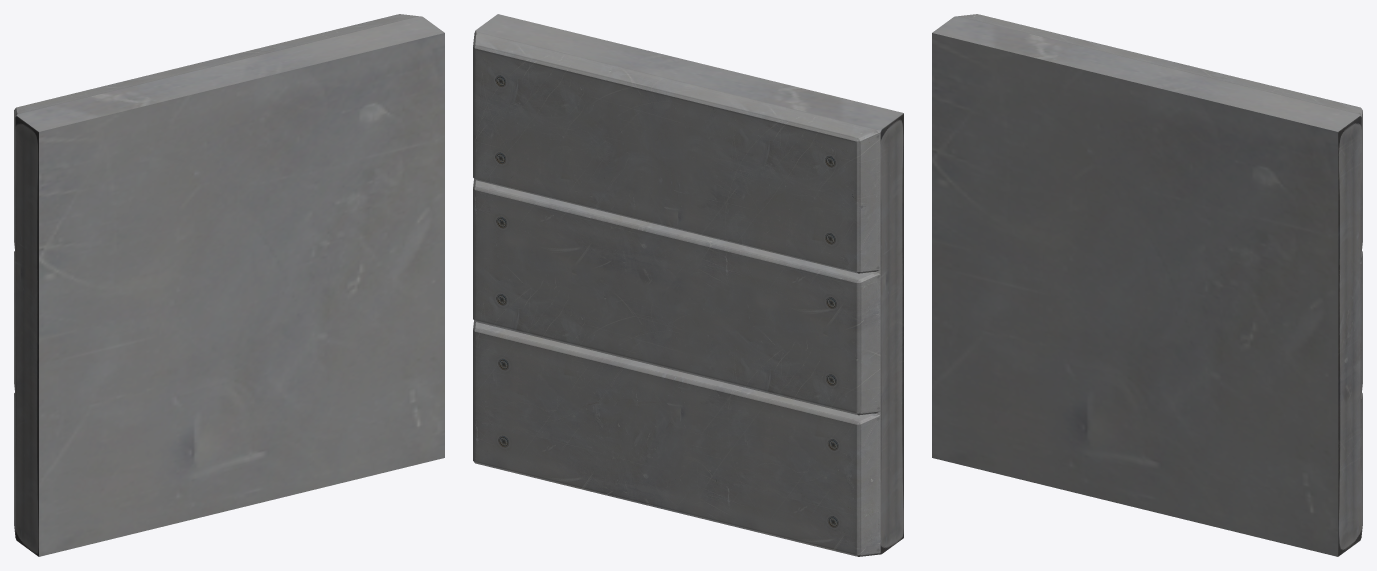
The model's file is SM_WALL_S02.fbx.
3 renders of one model, left to right at view 1: azimuth 30°, elevation 25°; view 2: azimuth 150°, elevation 25°; view 3: azimuth 330°, elevation 25°, orthographic.
Visible parts, largest first — view 1: SM_WALL_S02_LOD0; view 2: SM_WALL_S02_LOD0; view 3: SM_WALL_S02_LOD0.
Boxes of the visible parts, x1=… form: SM_WALL_S02_LOD0: x1=14, y1=14, x2=444, y2=556; SM_WALL_S02_LOD0: x1=473, y1=14, x2=903, y2=556; SM_WALL_S02_LOD0: x1=932, y1=14, x2=1362, y2=556.
Bounding box in the file's own units: 400 × 60 × 400.
Materials: 1 (1 with a texture image).
